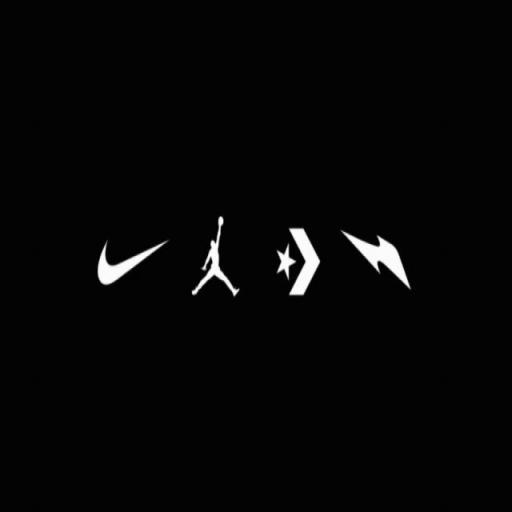Nike: (90, 225, 176, 301)
